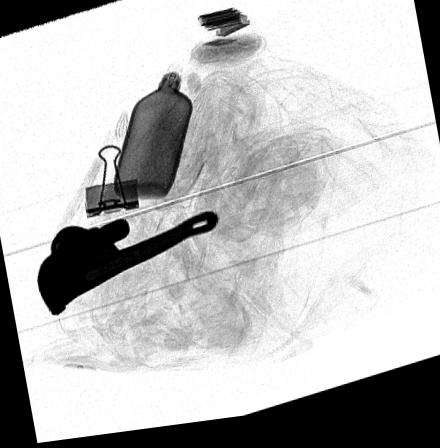Wrench: (33, 216, 218, 320)
